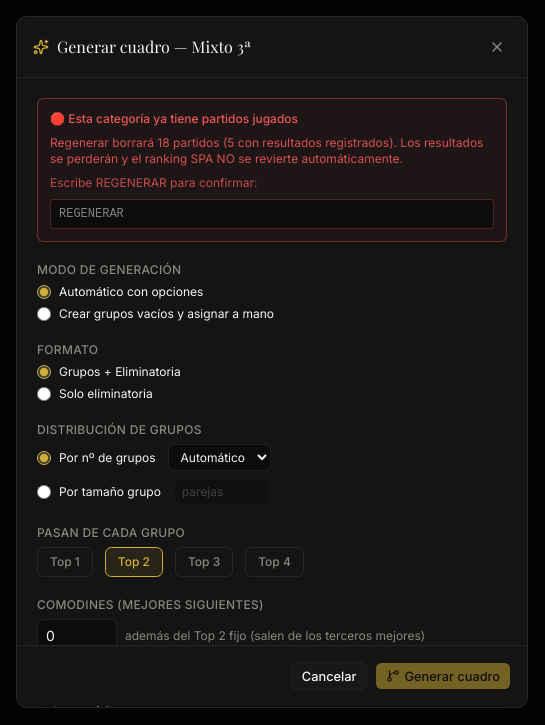
Test case: GenerateBracketDialog › Bloque 2 — empty states + read-only + REGENERAR › alreadyHasBracket + con resultados → banner rojo + REGENERAR input + botón disabled hasta match
The width and height of the screenshot is (545, 725).
Check: the text "🛑 Esta categoría ya tiene partidos jugados" is shown, box 50,111 -> 298,126
Check: the button "Generar cuadro" is disabled, box 376,663 -> 511,691
Note: Escribe algo distinto → sigue disabled
Type "OTRA COSA" into the field with placeholder "REGENERAR" at [272, 214], box 50,199 -> 494,229
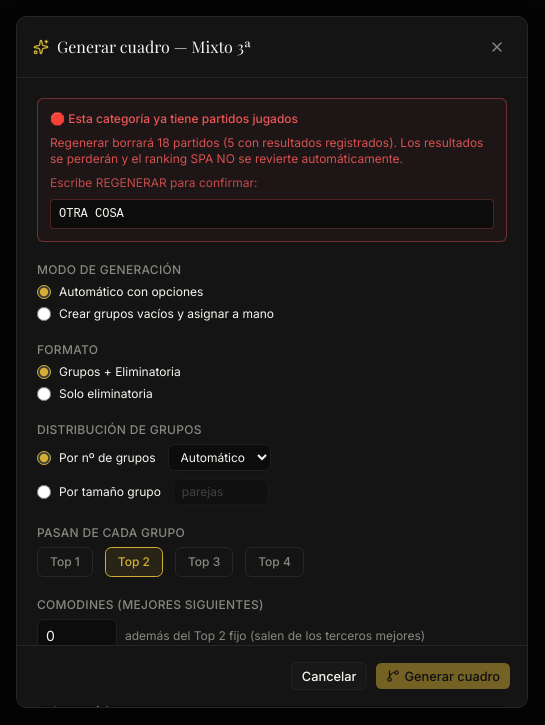
Check: the button "Generar cuadro" is disabled, box 376,663 -> 511,691
Note: Escribe REGENERAR exacto → se habilita
Replace the text in the field with placeholder "REGENERAR" with "REGENERAR" at [272, 214], box 50,199 -> 494,229
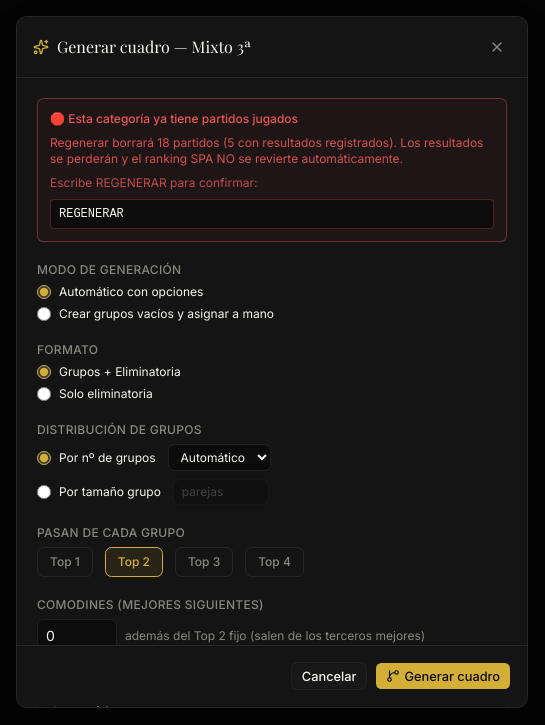
Check: the button "Generar cuadro" is enabled, box 376,663 -> 511,691
